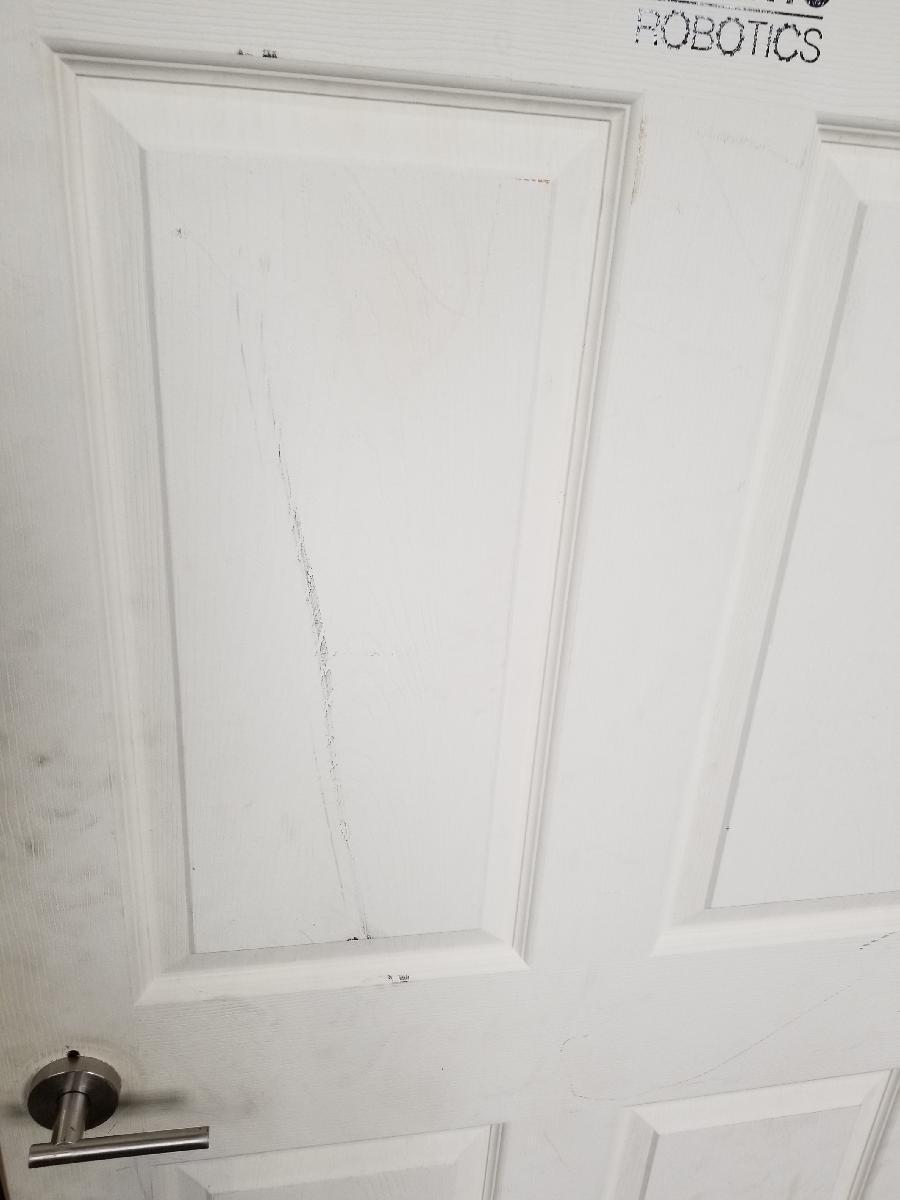door: (8, 8, 889, 1189)
handle: (16, 1052, 216, 1170)
